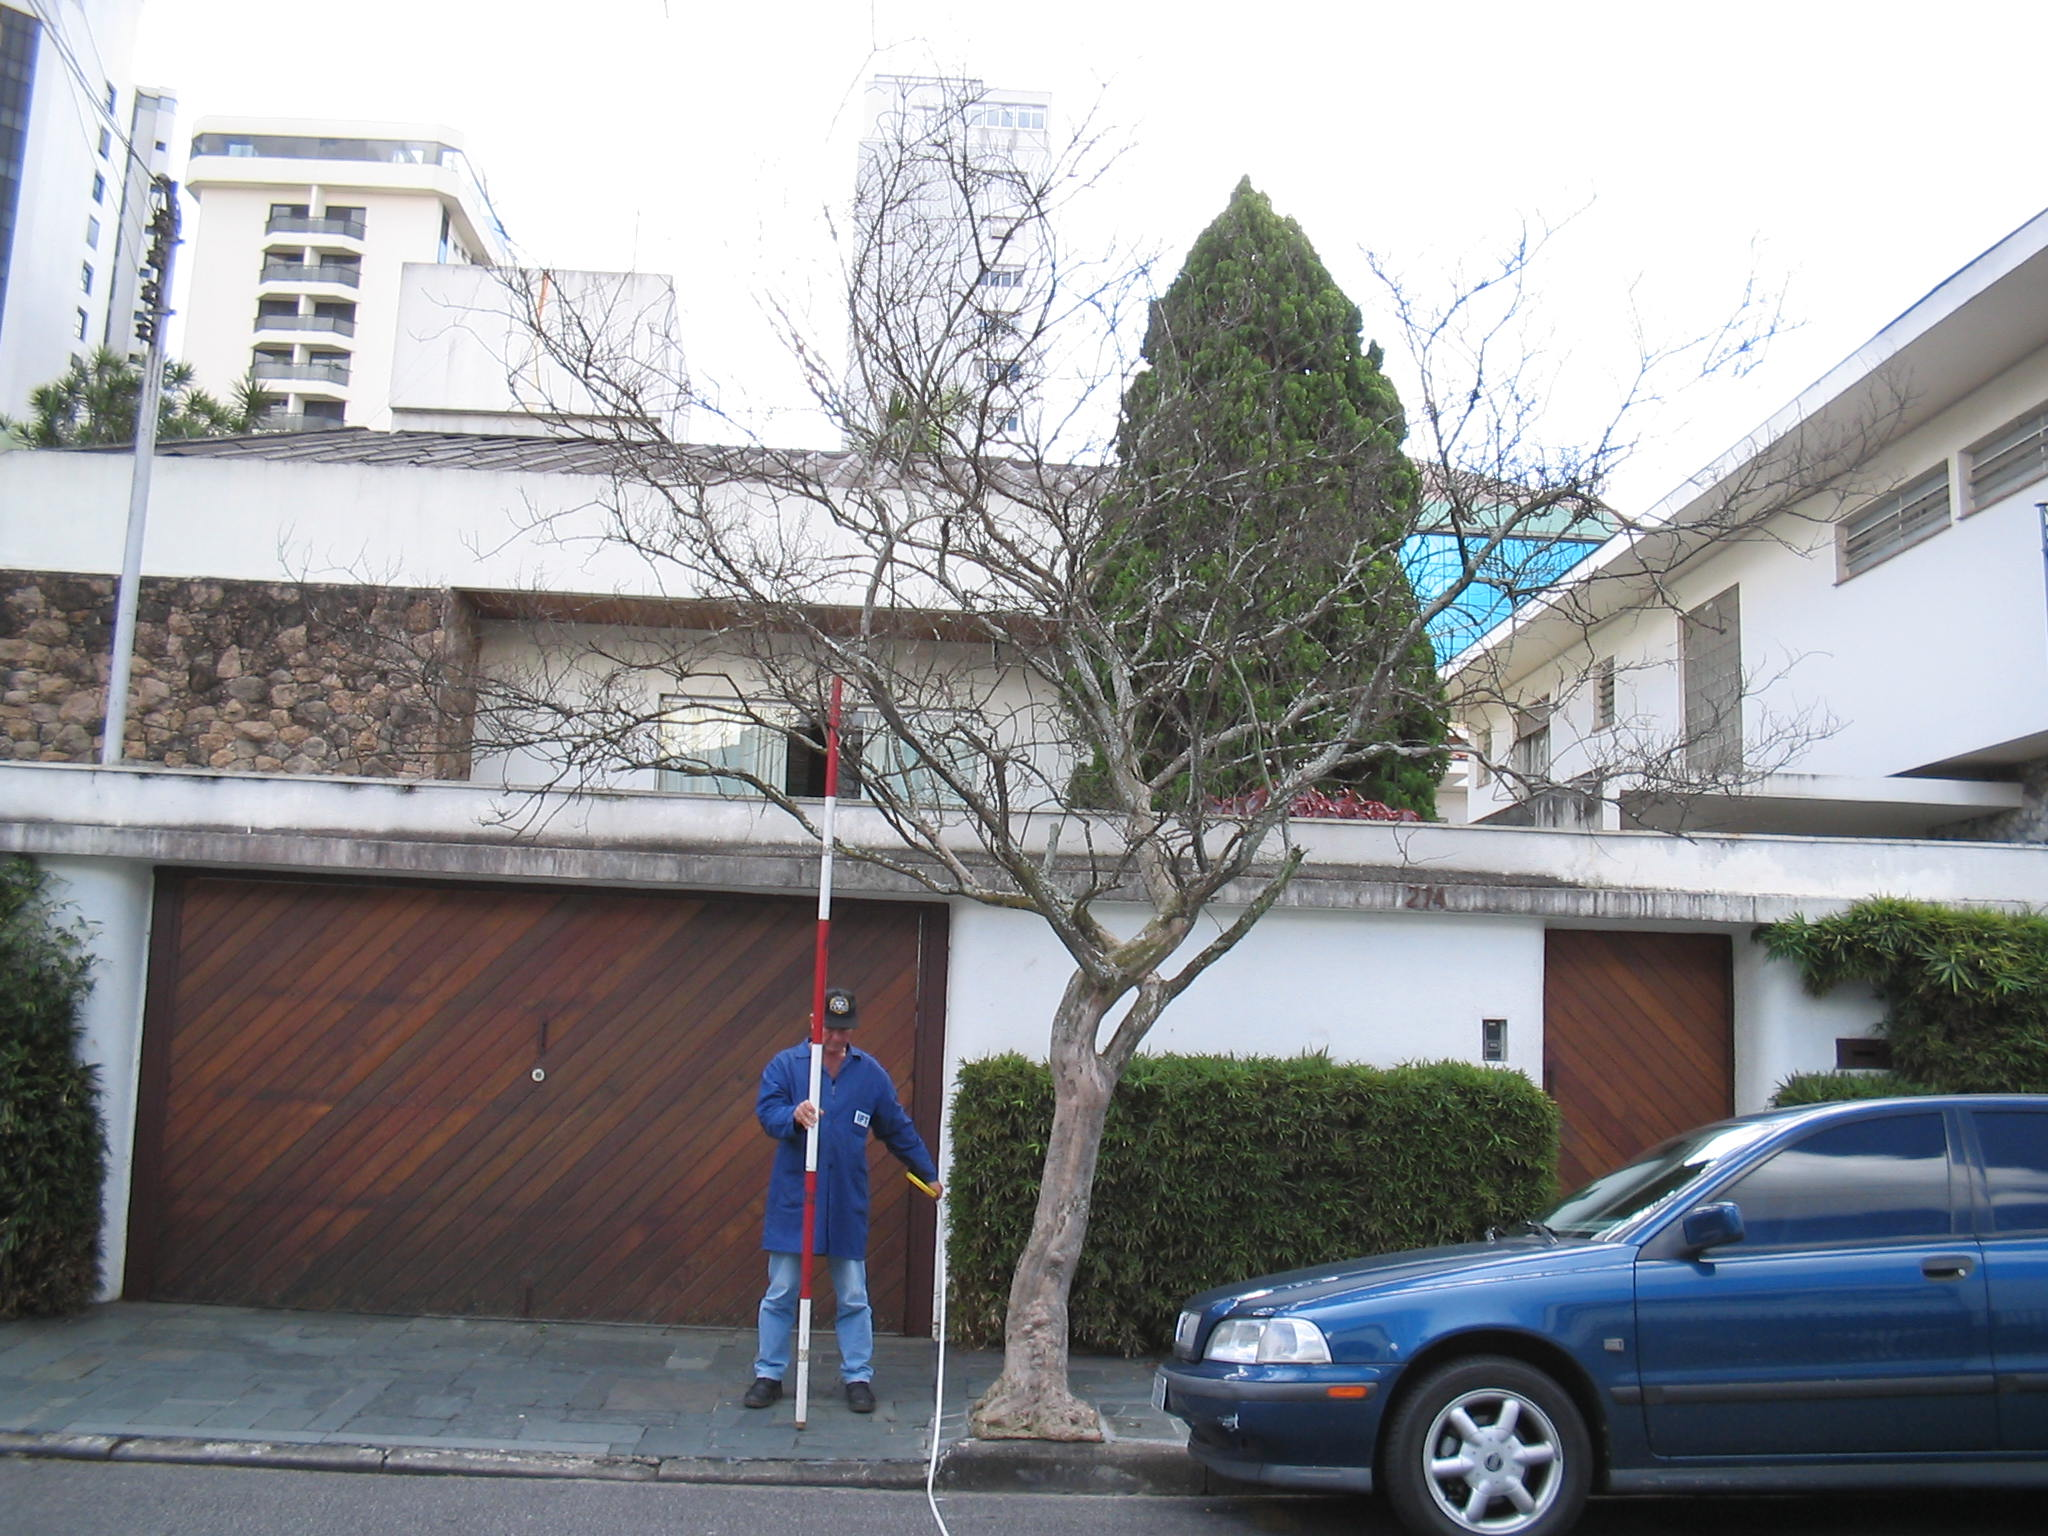stem: (959, 1055, 1135, 1434)
stick: (758, 674, 874, 1428)
tree: (406, 42, 1921, 1438)
